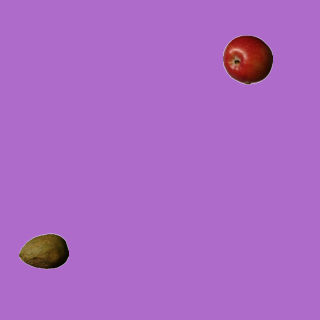Apple Braeburn: (222, 34, 272, 84)
Papaya: (18, 226, 68, 276)
